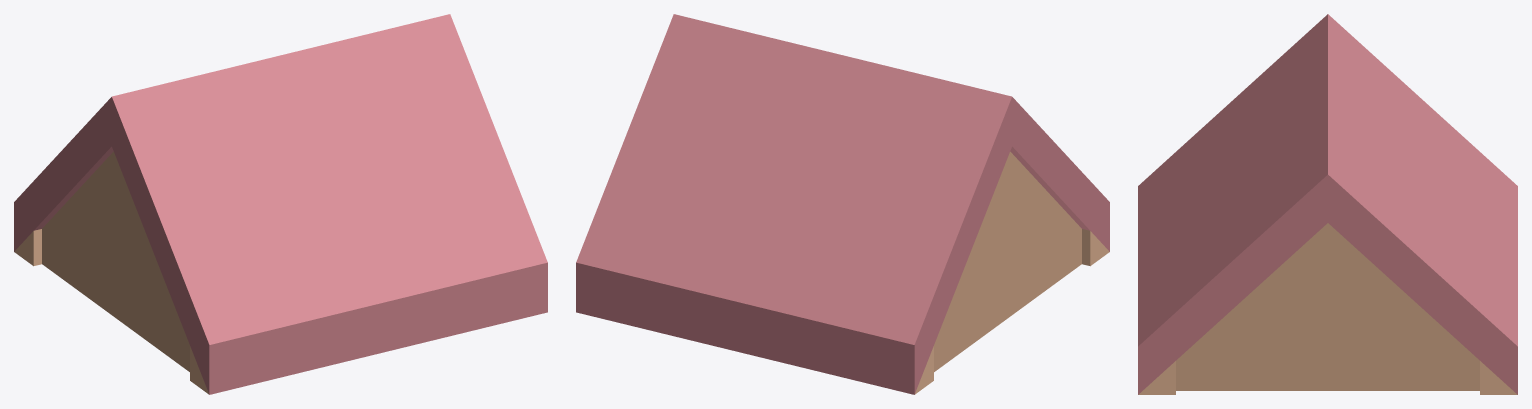
The model's file is roofHighGableTop.glb.
The picture shows the model from 3 angles, left to right: view 1: azimuth 30°, elevation 25°; view 2: azimuth 150°, elevation 25°; view 3: azimuth 270°, elevation 25°; orthographic projection. The views are drawn at different scales.
Visible parts, largest first — view 1: roofHighGableTop; view 2: roofHighGableTop; view 3: roofHighGableTop.
Part boxes in pixels (x1=…): roofHighGableTop: x1=14, y1=14, x2=547, y2=394; roofHighGableTop: x1=576, y1=14, x2=1109, y2=394; roofHighGableTop: x1=1138, y1=14, x2=1517, y2=394.
Bounding box in the file's own units: 1 × 0.6407 × 1.
